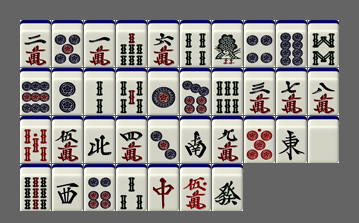0m: (180, 164, 211, 211)
0p: (244, 116, 275, 163)
0s: (20, 116, 51, 163)
1m: (84, 20, 115, 67)
1p: (148, 68, 179, 115)
1s: (212, 20, 243, 67)
1z: (276, 116, 307, 163)
2m: (20, 20, 51, 67)
2p: (52, 68, 83, 115)
2s: (84, 68, 115, 115)
2z: (180, 116, 211, 163)
3m: (244, 68, 275, 115)
3p: (148, 116, 179, 163)
3s: (116, 164, 147, 211)
3z: (52, 164, 83, 211)
4m: (116, 116, 147, 163)
4p: (244, 20, 275, 67)
4s: (180, 20, 211, 67)
4z: (84, 116, 115, 163)
5m: (52, 116, 83, 163)
5p: (52, 20, 83, 67)
5s: (116, 68, 147, 115)
5z: (308, 116, 339, 163)
6m: (148, 20, 179, 67)
6p: (84, 164, 115, 211)
6s: (212, 68, 243, 115)
6z: (212, 164, 243, 211)
7m: (276, 68, 307, 115)
7p: (180, 68, 211, 115)
7s: (116, 20, 147, 67)
7z: (148, 164, 179, 211)
8m: (308, 68, 339, 115)
8p: (276, 20, 307, 67)
8s: (308, 20, 339, 67)
9m: (212, 116, 243, 163)
9p: (20, 68, 51, 115)
9s: (20, 164, 51, 211)
